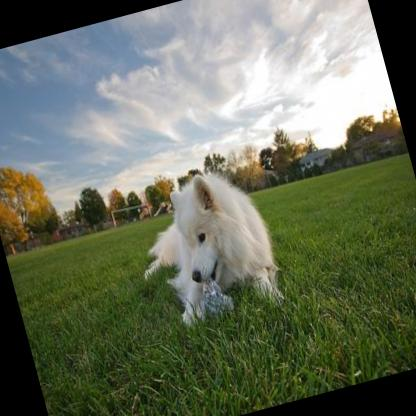Samoyed: (120, 158, 285, 330)
